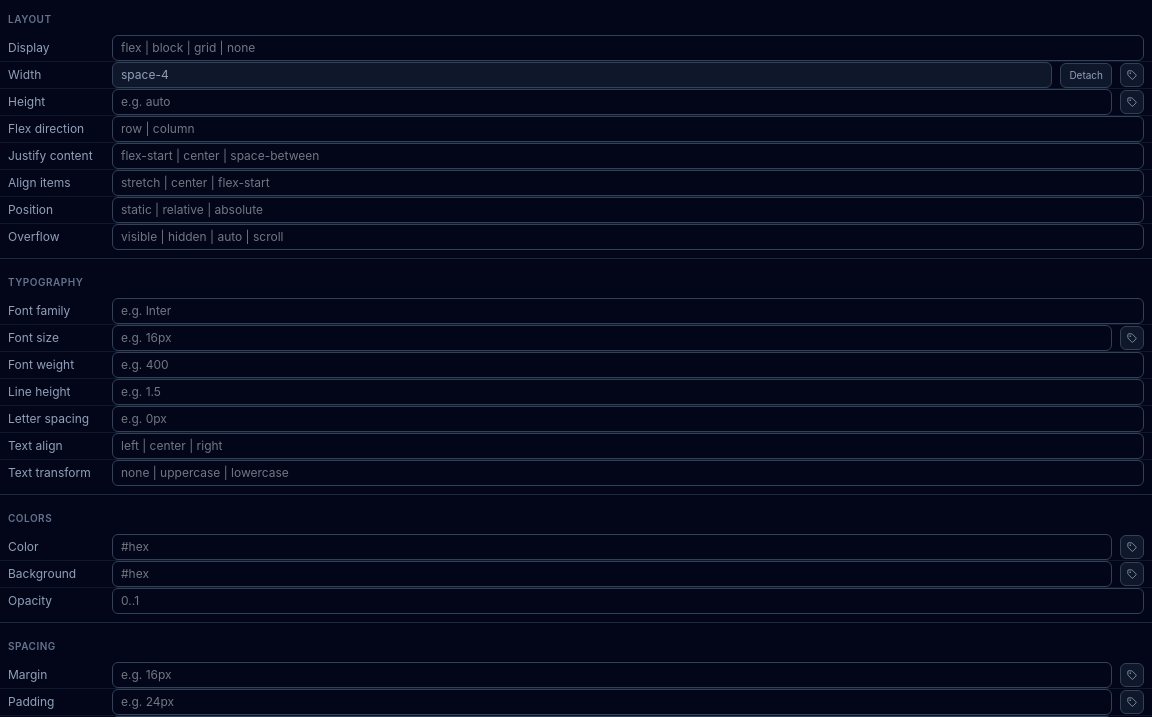
Test: Inspector: design tokens › detaches a token ref back to the raw value
The image size is (1152, 717).
Click the button "Detach" at (1086, 75), box [1060,62,1112,88]
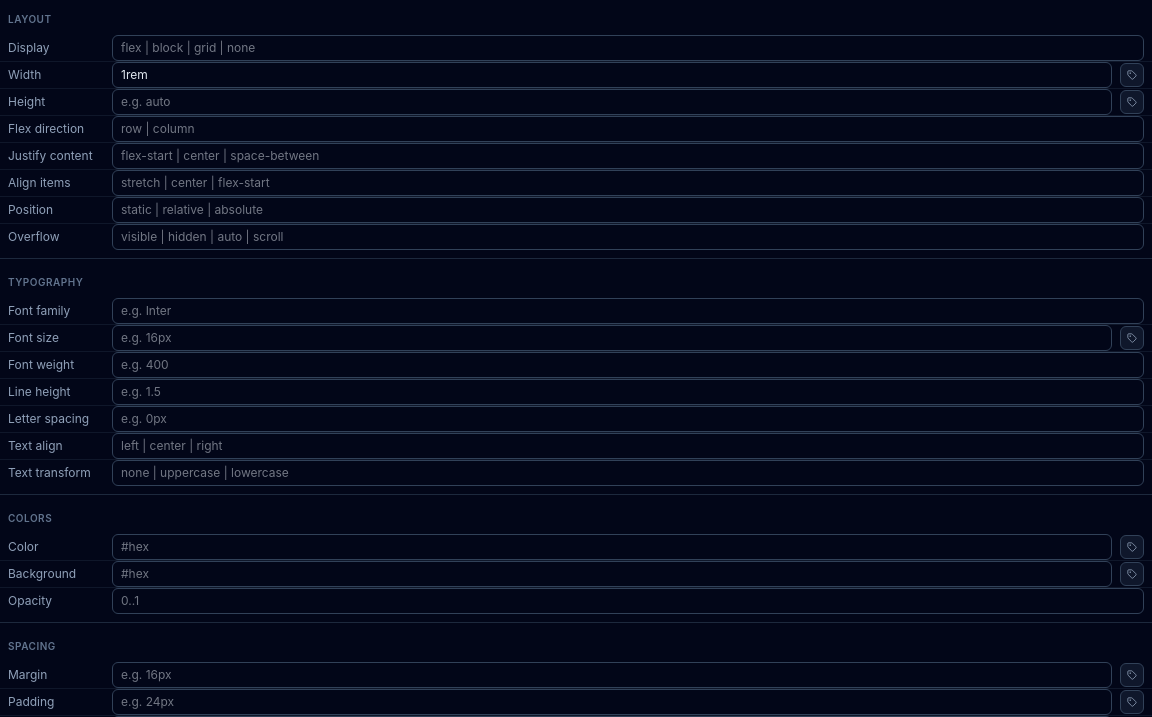
Expected: the field with placeholder "e.g. 100%" holds "1rem", [112,62,1112,88]
